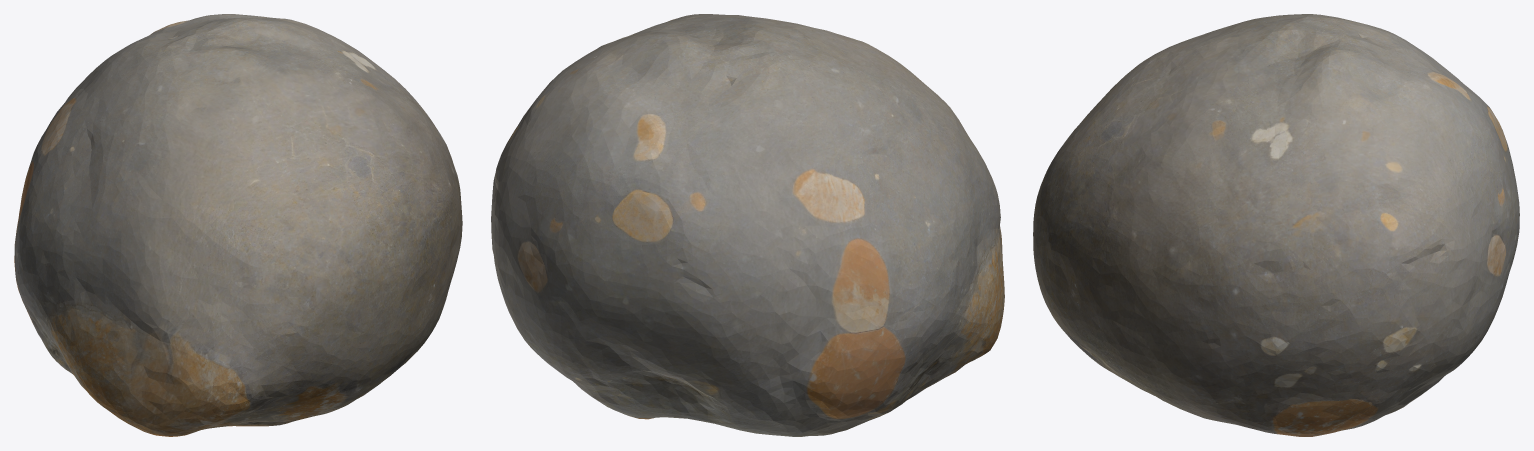
File: An_imperfectly_spheri_0620194350_texture.fbx
3 views of the same model, side by side, from view 1: azimuth 30°, elevation 25°; view 2: azimuth 150°, elevation 25°; view 3: azimuth 270°, elevation 25° (orthographic). The views are drawn at different scales.
Visible parts, largest first — view 1: temp; view 2: temp; view 3: temp.
Part boxes in pixels (<box>): temp: <box>14,14,462,436</box>; temp: <box>491,14,1004,436</box>; temp: <box>1033,14,1519,436</box>.
Bounding box in the file's own units: 195 × 159 × 200.
Materials: 1 (1 with a texture image).
